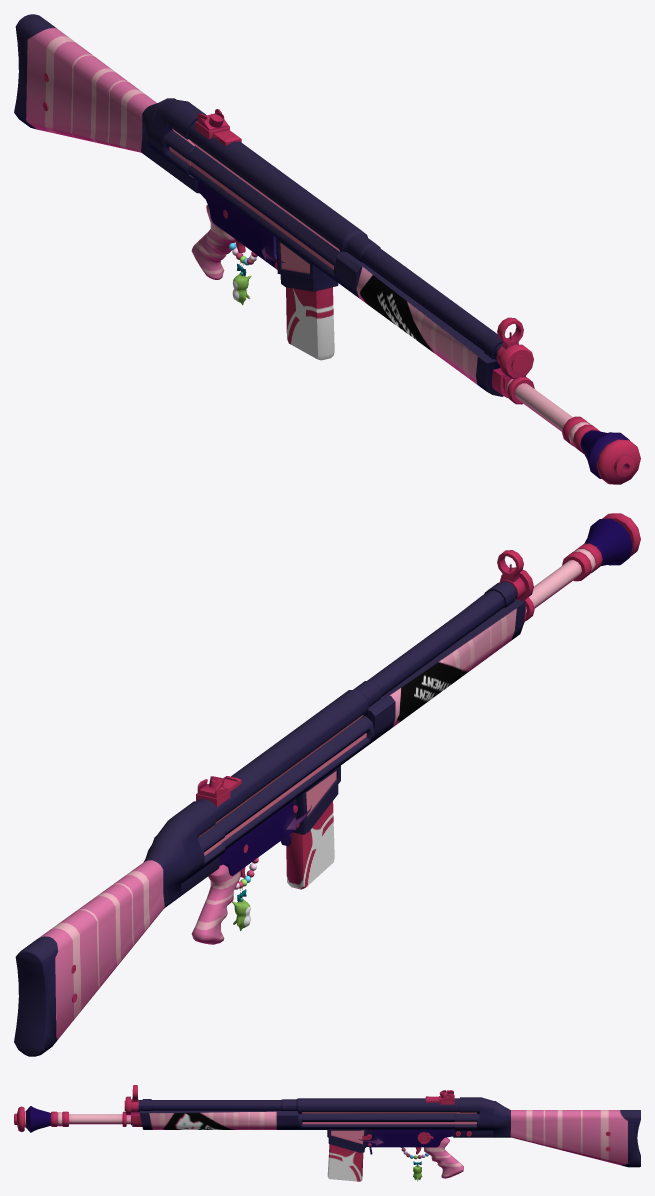
3 renders of one model, top to bottom at view 1: azimuth 30°, elevation 25°; view 2: azimuth 150°, elevation 25°; view 3: azimuth 270°, elevation 25°, orthographic. The views are drawn at different scales.
Visible parts, largest first — view 1: HK33A2; view 2: HK33A2; view 3: HK33A2.
Boxes of the visible parts, x1,y1,x2,y2 form: HK33A2: (14,14,640,484); HK33A2: (14,513,640,1056); HK33A2: (14,1085,640,1181).
Size of the model in its own units: 4.36 by 102 by 17.13.
